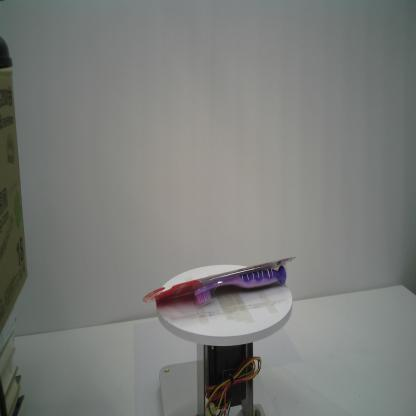Personal Hygiene: (142, 256, 297, 310)
